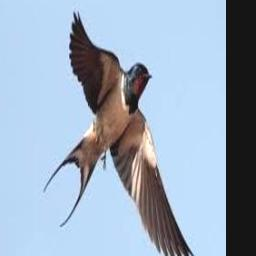Swallow: (44, 9, 195, 256)
